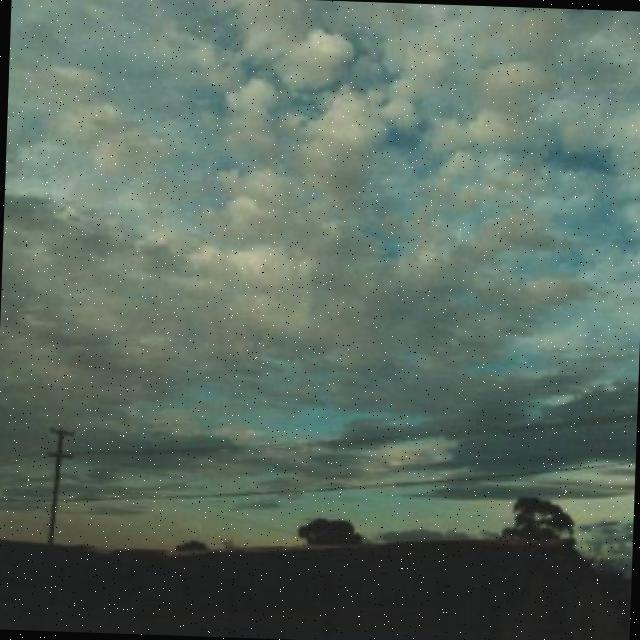Ci: (1, 22, 640, 408)
